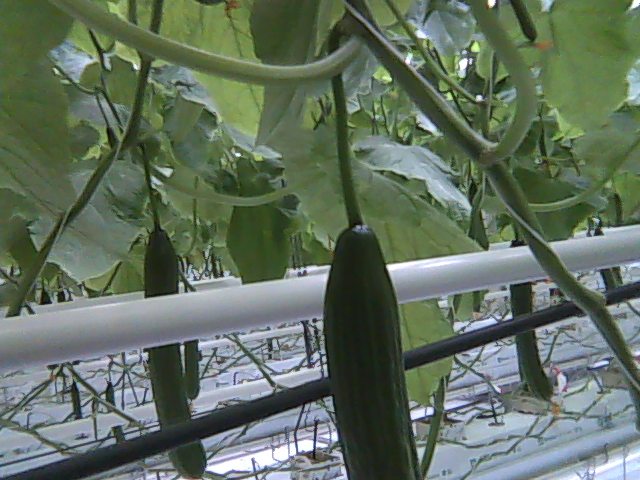concombre: (320, 216, 430, 480)
